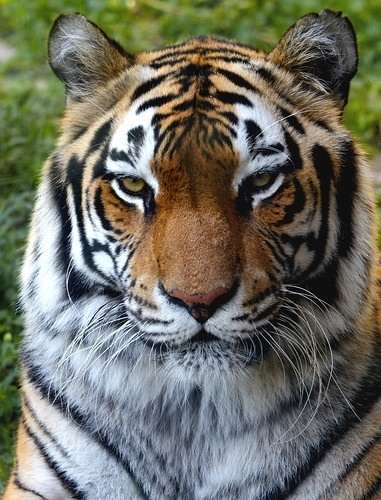tigre: (1, 4, 381, 499)
